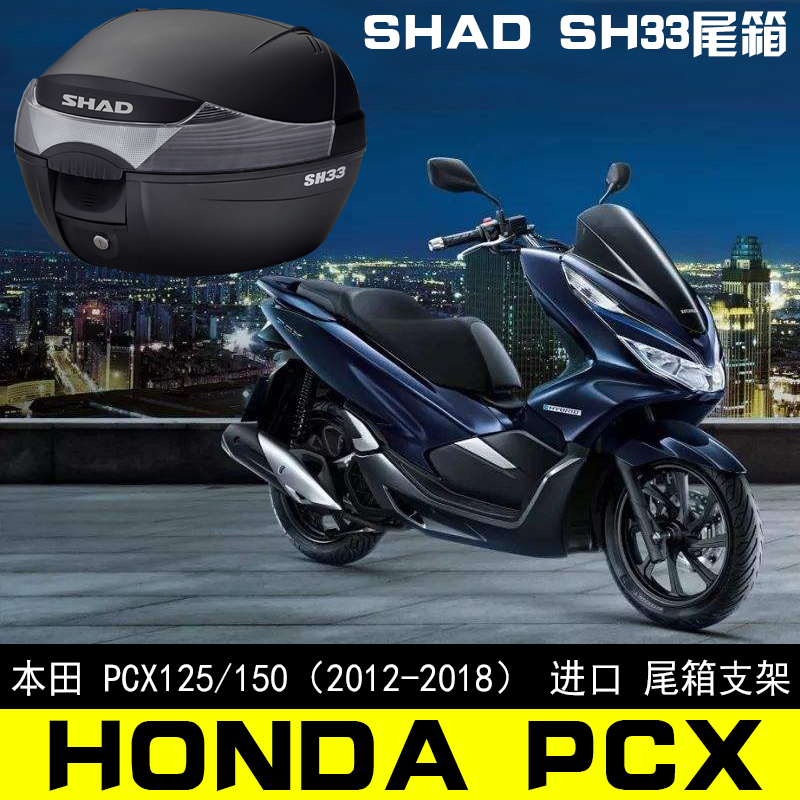电动车: (218, 141, 768, 631)
